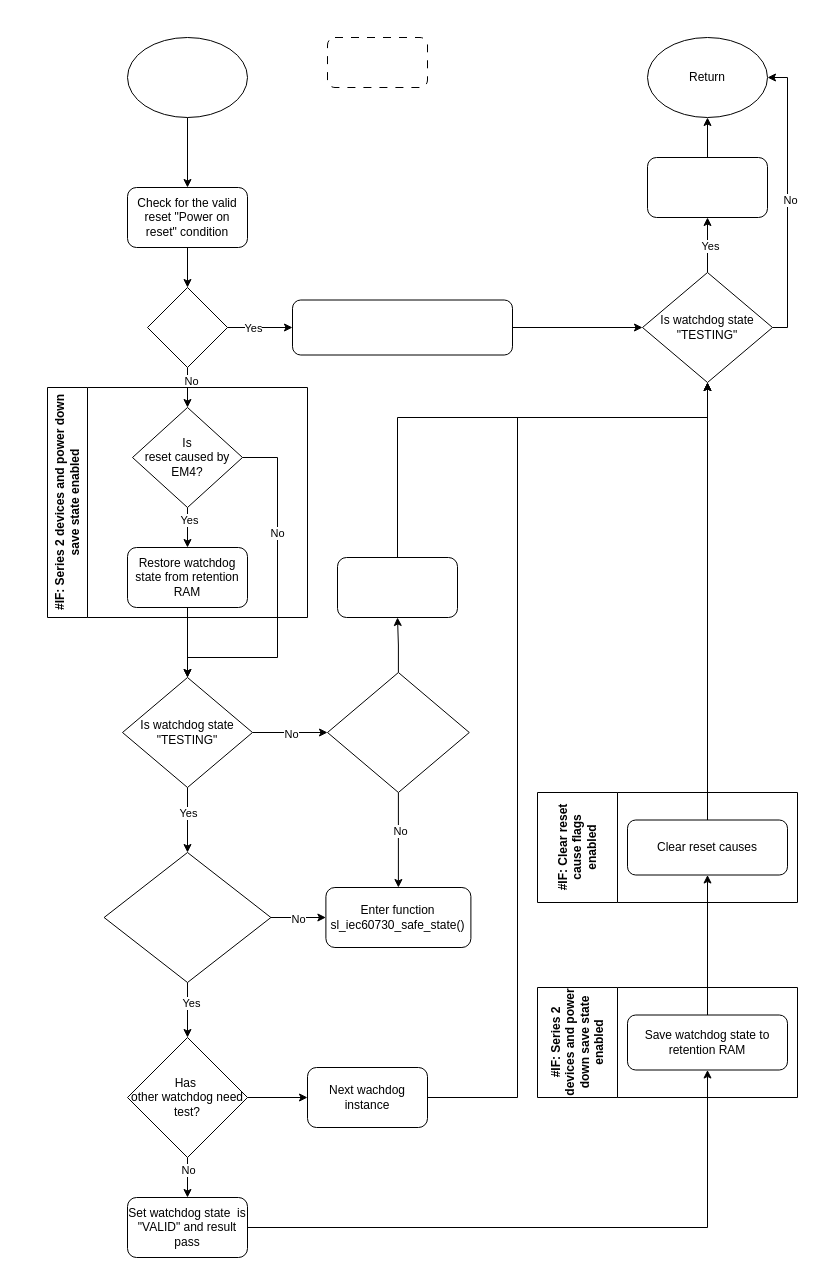
The diagram is 834 pixels wide and 1284 high, and some of its shapes have lost their labels. Each missing label, with the centre of its shape:
Is not in case of POR and WDOG reset?: (x=397, y=732)
Is reset cause valid with current watchdog test ?: (x=187, y=917)
Is valid?: (x=187, y=327)
No action. Set result pass.: (x=397, y=587)
Ref ID: H.2.16.6 H.2.18.10.2: (x=377, y=62)
Set watchdog state is "TESTING": (x=402, y=327)
Set watchdog timeout to min. Process waiting for watchdog reset.: (x=707, y=187)
Start: (x=187, y=77)
